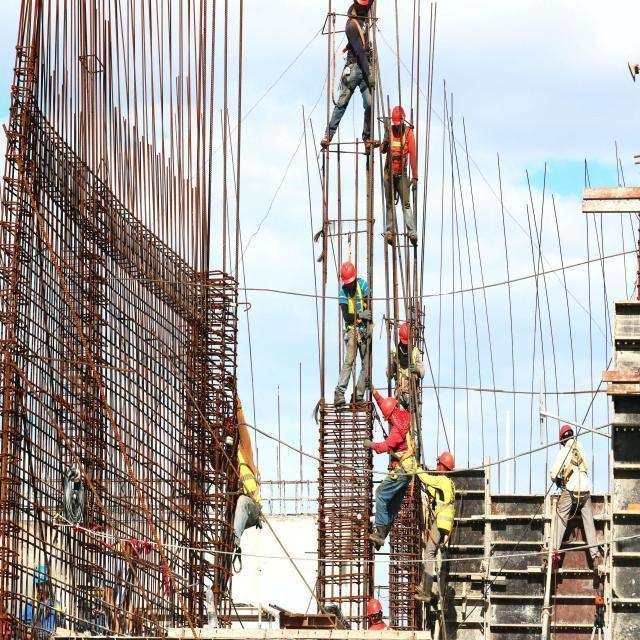Arnes_seguridad: (340, 20, 373, 71), (344, 287, 373, 345), (386, 127, 409, 194), (431, 476, 456, 535), (391, 422, 417, 476), (565, 439, 590, 490), (393, 352, 418, 394)
